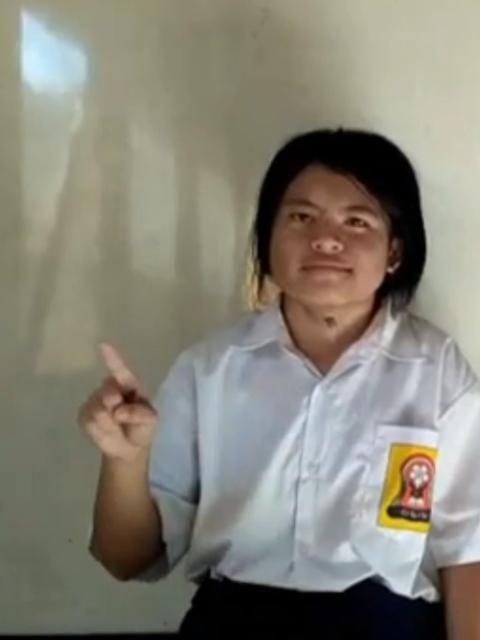Z: (73, 336, 161, 466)
